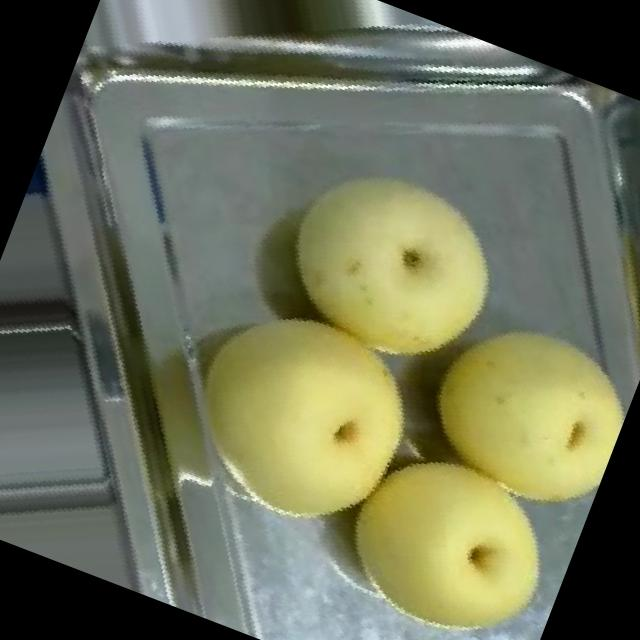Fruit: (128, 248, 477, 582), (231, 112, 553, 414), (386, 276, 640, 547), (303, 412, 595, 640)
